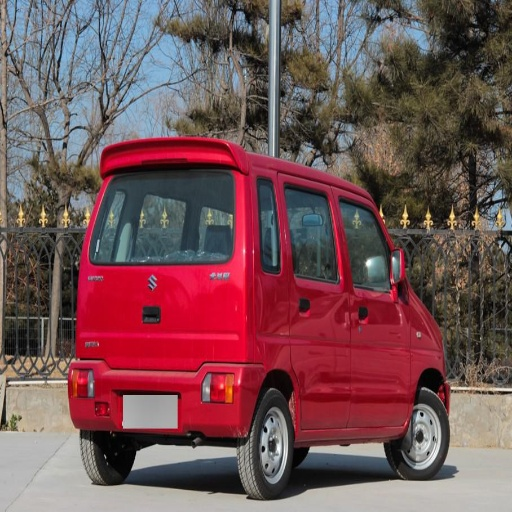back_bumper: (67, 360, 261, 434)
trunk: (78, 262, 254, 383)
